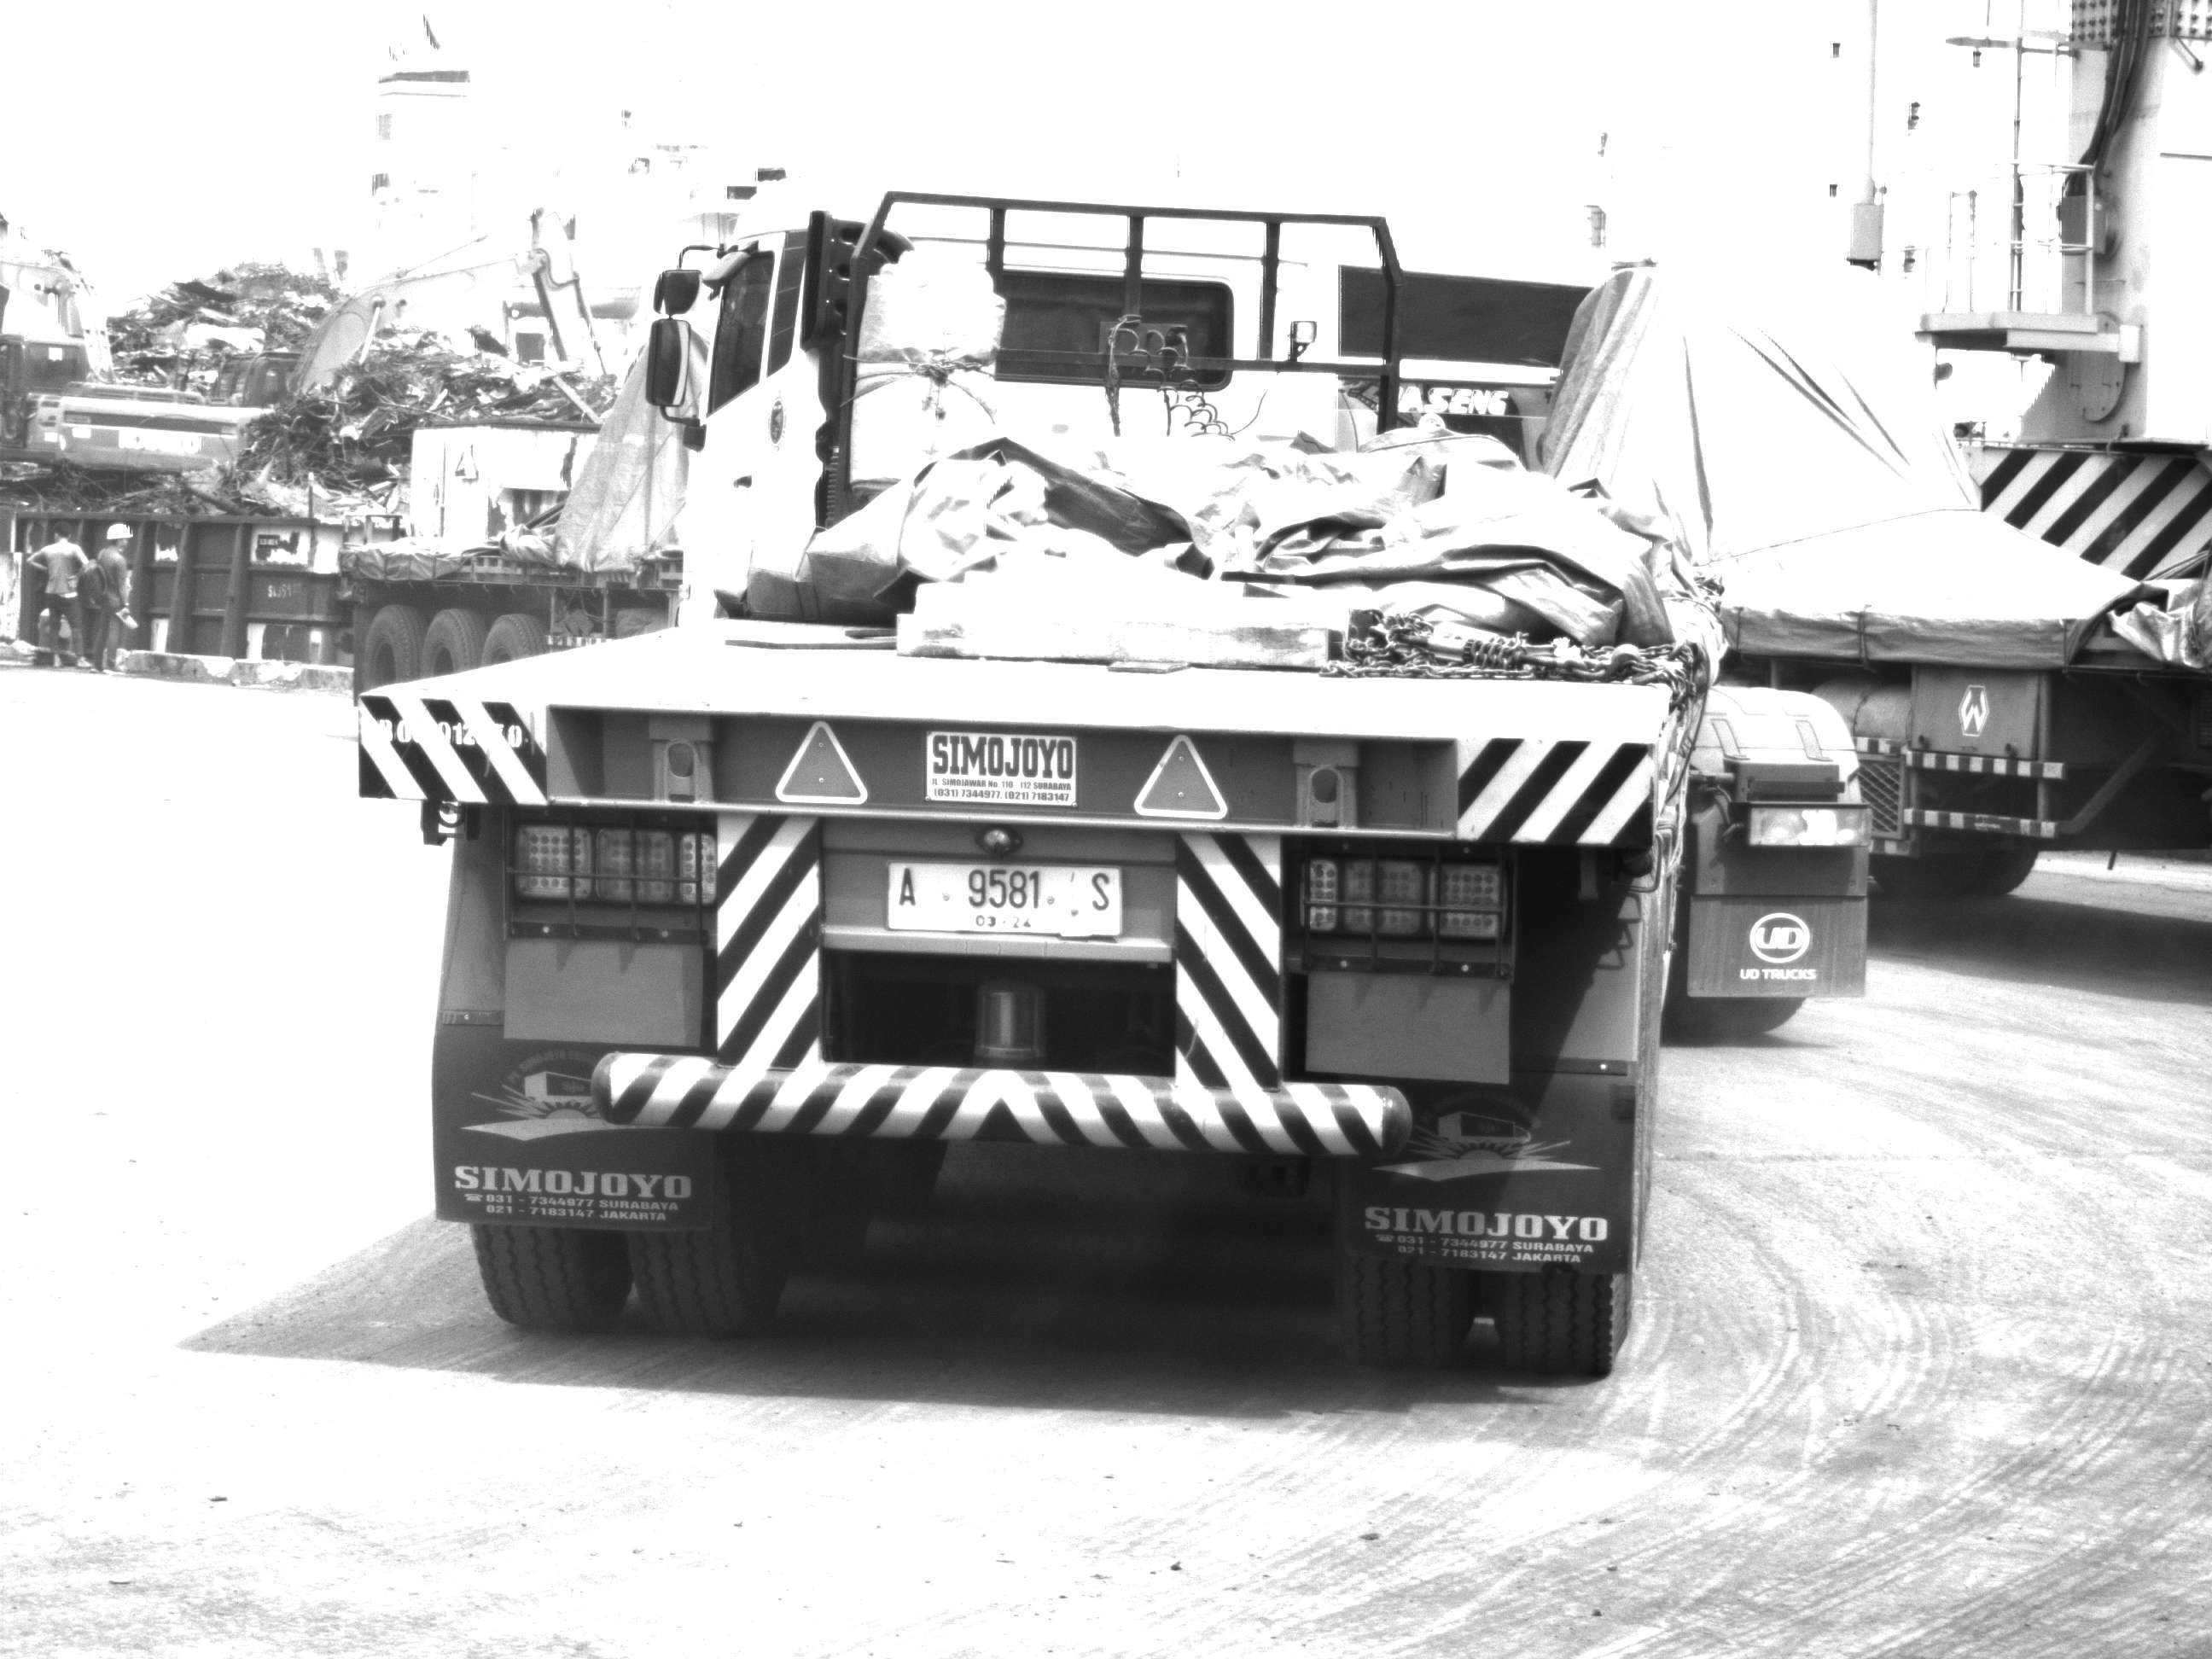day_truck_rear: (349, 679, 1647, 1374)
plate: (876, 857, 1131, 942)
